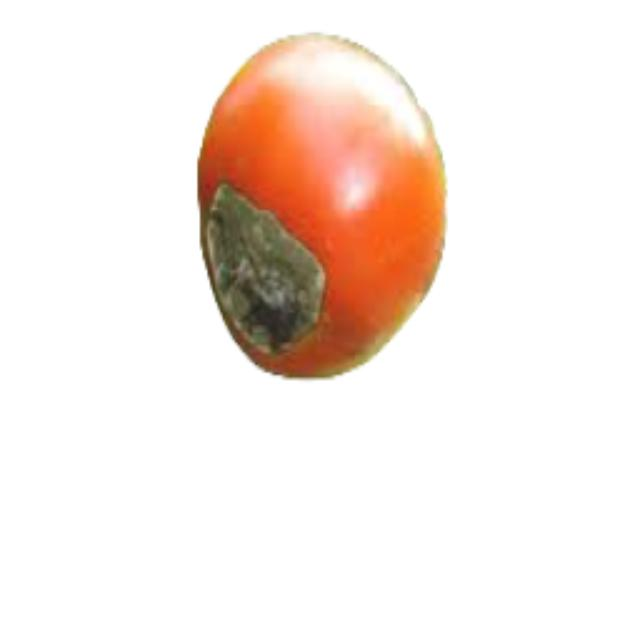defect: (192, 28, 453, 384)
